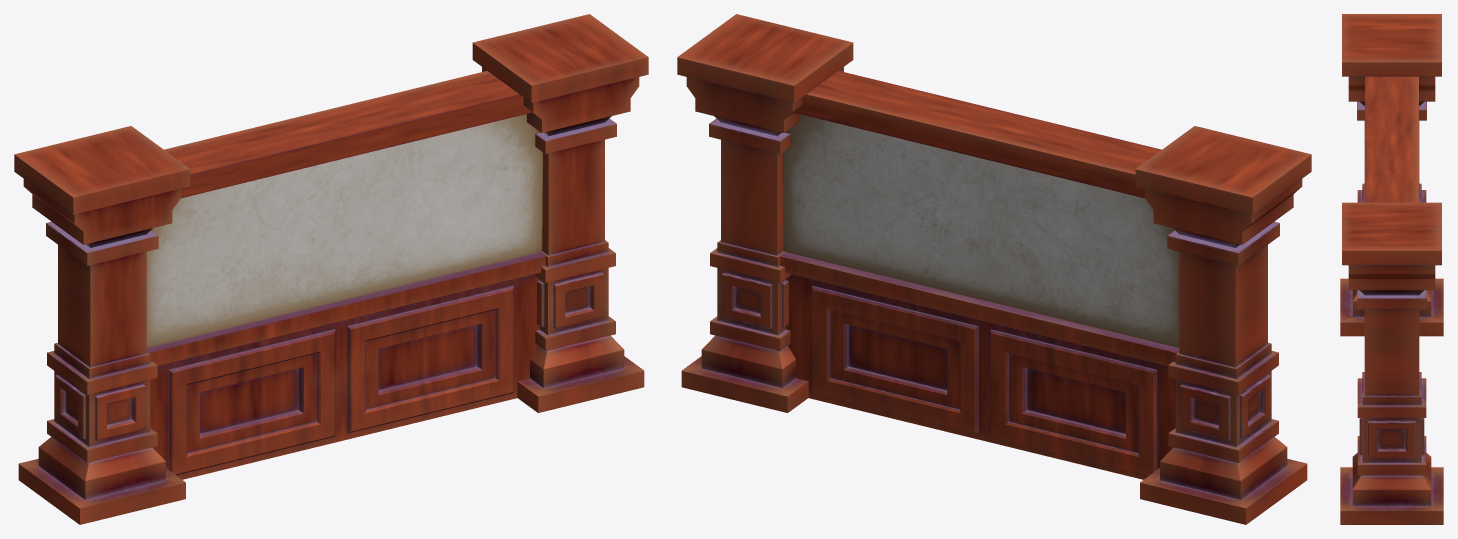
File: wall_lvl2_marble_two_columne.fbx
The picture shows the model from 3 angles, left to right: view 1: azimuth 30°, elevation 25°; view 2: azimuth 150°, elevation 25°; view 3: azimuth 270°, elevation 25°; orthographic projection. The views are drawn at different scales.
Visible parts, largest first — view 1: wall_lvl2_marble_two_columne; view 2: wall_lvl2_marble_two_columne; view 3: wall_lvl2_marble_two_columne.
Part boxes in pixels (bbox=[...]): wall_lvl2_marble_two_columne: bbox=[14, 14, 648, 524]; wall_lvl2_marble_two_columne: bbox=[677, 14, 1311, 524]; wall_lvl2_marble_two_columne: bbox=[1340, 14, 1443, 524].
Size of the model in its own units: 1314 by 716 by 243.
